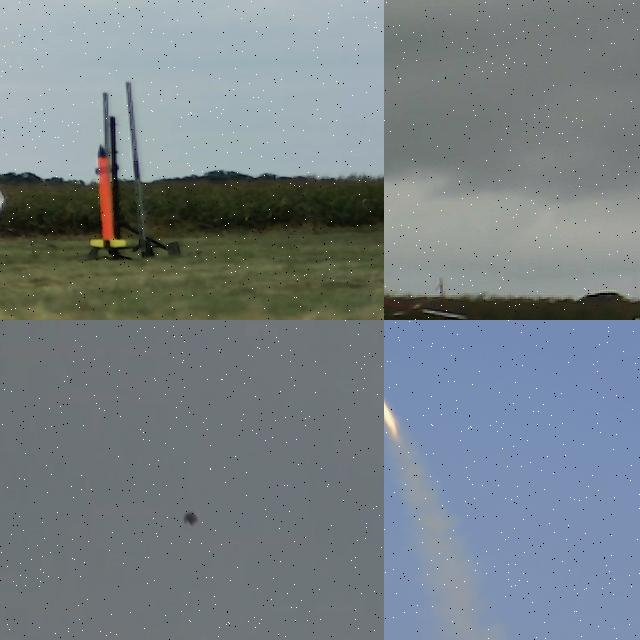Rocket: (89, 143, 129, 249), (179, 505, 199, 529)
